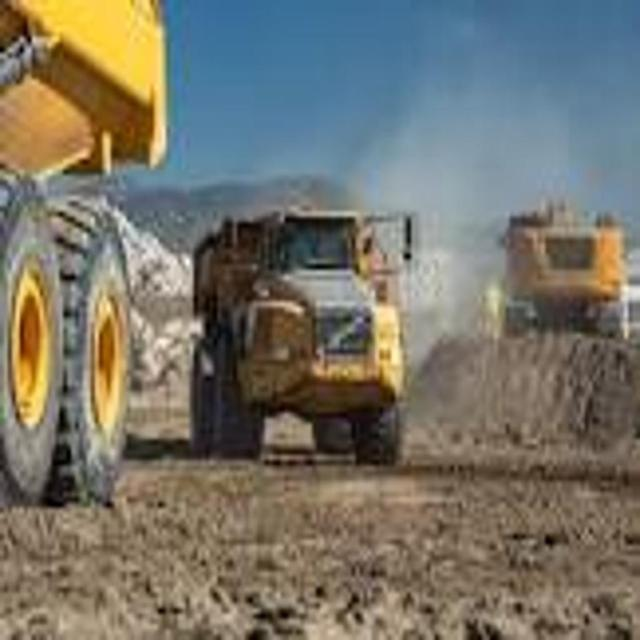dump_truck: (0, 0, 191, 504), (182, 201, 416, 469), (471, 173, 636, 372)
